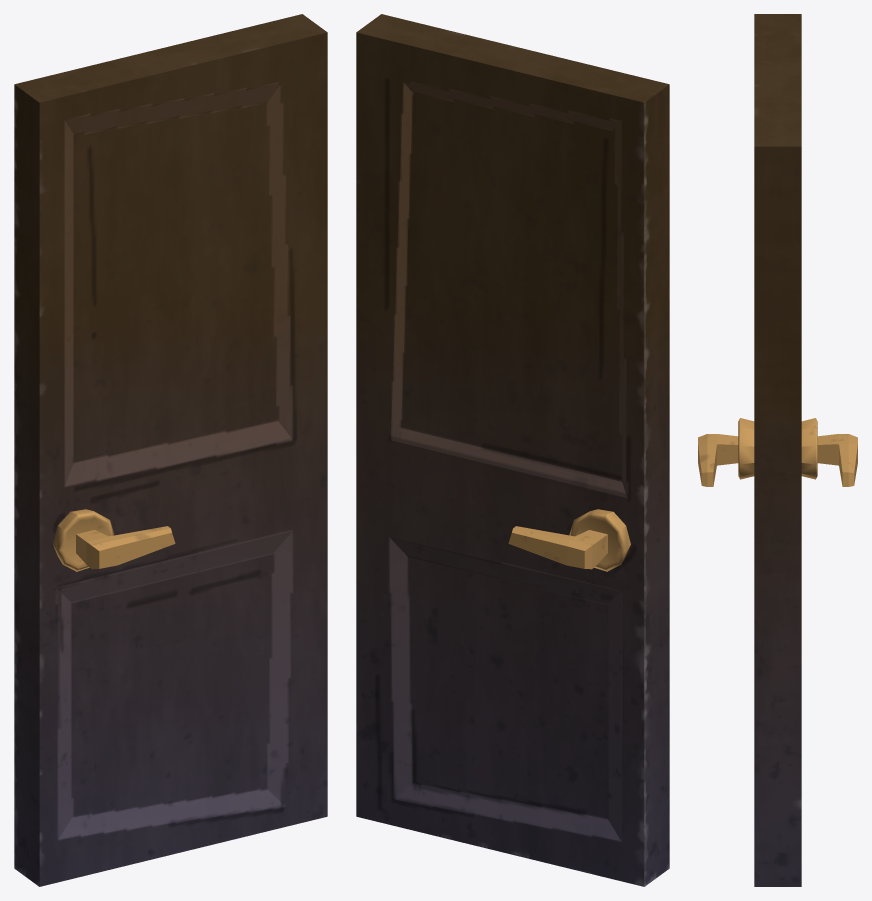
The model's file is Door.fbx.
3 renders of one model, left to right at view 1: azimuth 30°, elevation 25°; view 2: azimuth 150°, elevation 25°; view 3: azimuth 270°, elevation 25°, orthographic. The views are drawn at different scales.
Parts seen in each view (by area): view 1: Door; view 2: Door; view 3: Door.
Part boxes in pixels (x1,y1,x2,y2): Door: (14,14,327,886); Door: (356,14,669,886); Door: (698,14,857,886).
Size of the model in its own units: 123 by 321 by 62.76.
